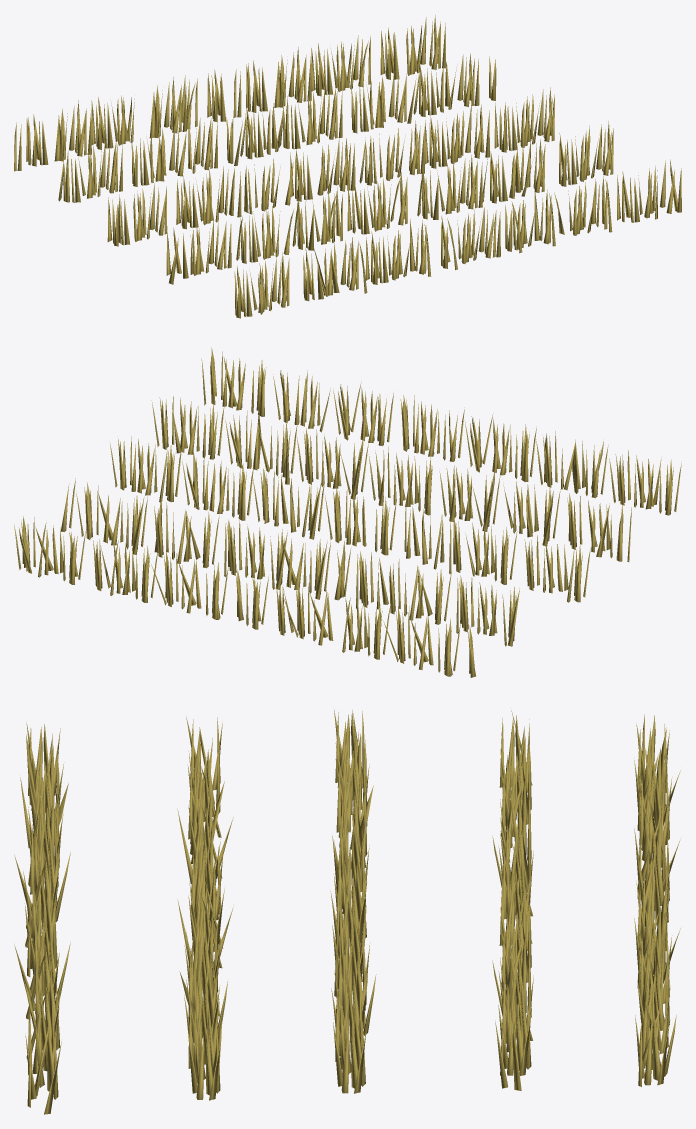
File: Farm_FirstAge_Level3_Wheat.fbx
3 views of the same model, one above another, from view 1: azimuth 30°, elevation 25°; view 2: azimuth 150°, elevation 25°; view 3: azimuth 270°, elevation 25° (orthographic). The views are drawn at different scales.
Parts seen in each view (by area): view 1: High_Farm_FirstAge_Level3_Wheat, Low_Farm_FirstAge_Level3_Wheat; view 2: High_Farm_FirstAge_Level3_Wheat, Low_Farm_FirstAge_Level3_Wheat; view 3: High_Farm_FirstAge_Level3_Wheat, Low_Farm_FirstAge_Level3_Wheat.
Boxes of the visible parts, x1,y1,x2,y2 form: High_Farm_FirstAge_Level3_Wheat: [14, 15, 681, 318]; Low_Farm_FirstAge_Level3_Wheat: [15, 31, 681, 315]; High_Farm_FirstAge_Level3_Wheat: [14, 347, 681, 677]; Low_Farm_FirstAge_Level3_Wheat: [22, 365, 678, 676]; High_Farm_FirstAge_Level3_Wheat: [14, 709, 680, 1114]; Low_Farm_FirstAge_Level3_Wheat: [19, 710, 672, 1099].
Size of the model in its own units: 171 by 19.21 by 145.
